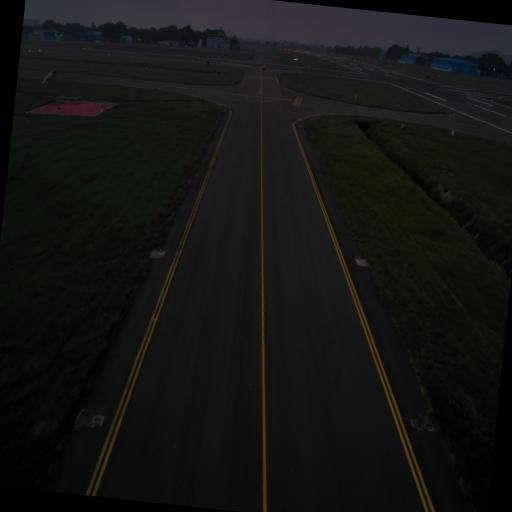on: (158, 246, 164, 254), (358, 256, 361, 262)
